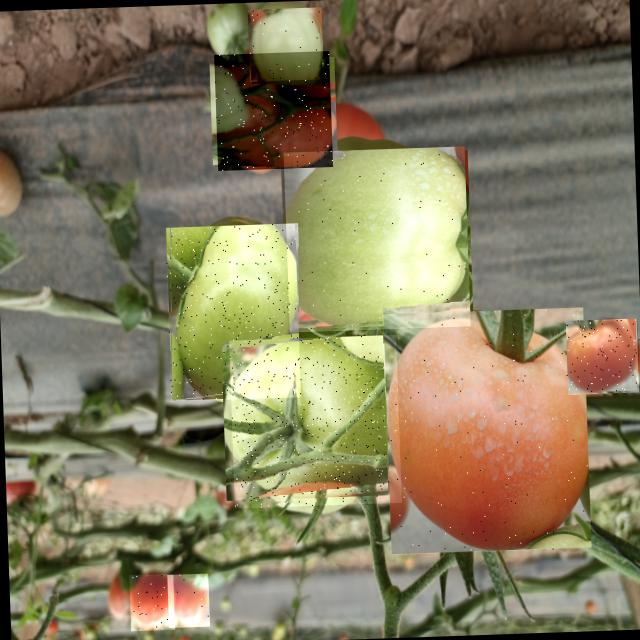Ripe Tomato: (382, 307, 591, 555), (565, 317, 640, 394), (128, 572, 174, 630), (167, 574, 210, 628)
Unripe Tomato: (283, 146, 470, 332), (228, 334, 402, 508), (164, 223, 300, 401), (214, 51, 332, 170), (248, 7, 324, 82)
